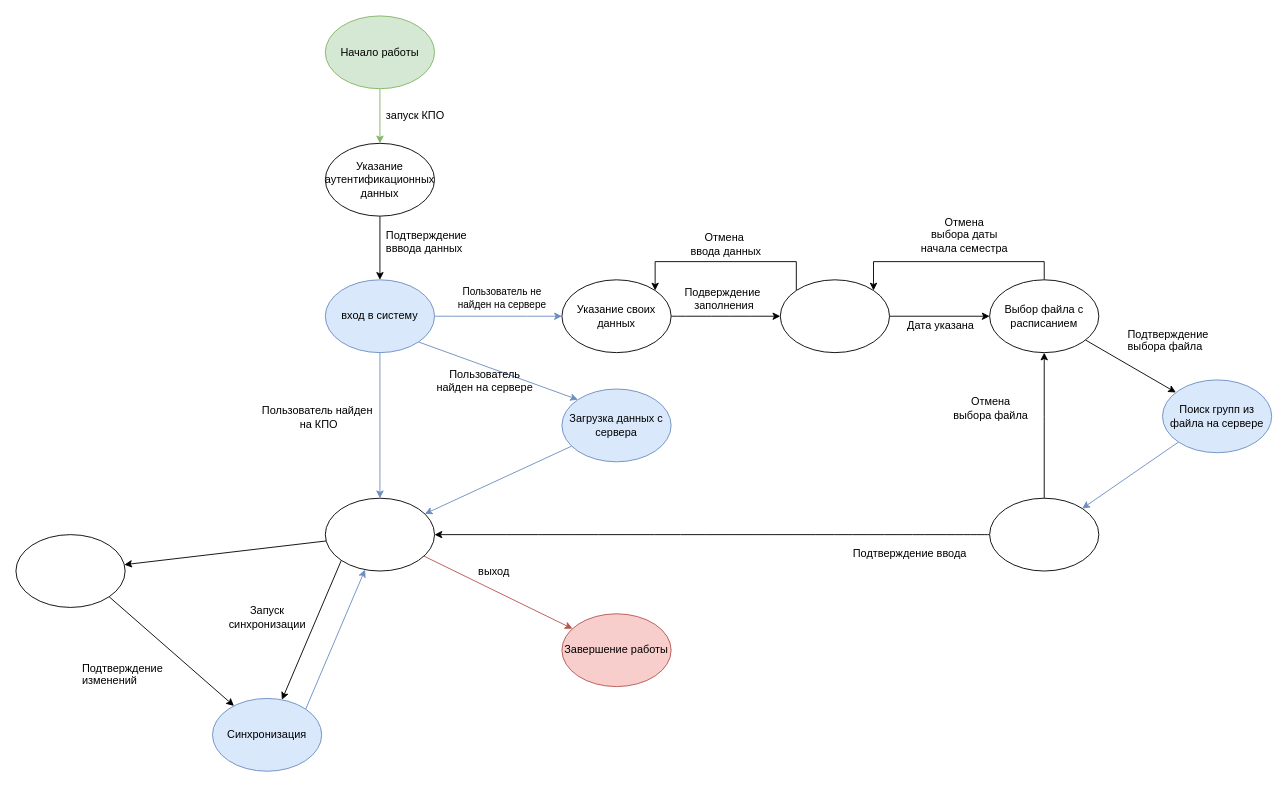
The diagram is 1288 pixels wide and 787 high, and some of its shapes have lost their labels. Each missing label, with the centre of its shape:
выбор даты начала семестра: point (834, 316)
Загрузка списков групп не найденных на сервере: point (1044, 534)
Редактирвоание параметров рассылки: point (70, 570)
Управление журналом посещений: point (379, 534)
